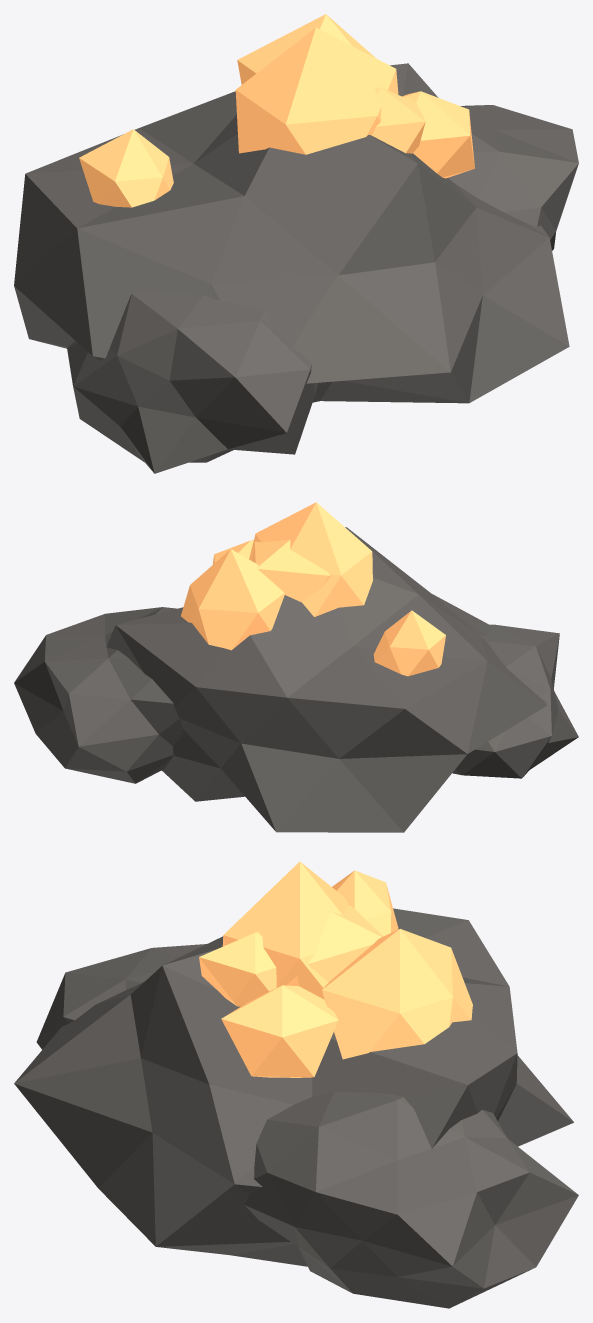
Rendered from ore-ferrite.glb.
3 renders of one model, top to bottom at view 1: azimuth 30°, elevation 25°; view 2: azimuth 150°, elevation 25°; view 3: azimuth 270°, elevation 25°, orthographic. The views are drawn at different scales.
Parts seen in each view (by area): view 1: ore-ferrite; view 2: ore-ferrite; view 3: ore-ferrite.
Part boxes in pixels (x1=…): ore-ferrite: x1=14, y1=14, x2=578, y2=473; ore-ferrite: x1=14, y1=502, x2=578, y2=832; ore-ferrite: x1=14, y1=861, x2=578, y2=1308.
Size of the model in its own units: 1.96 by 1.19 by 1.65.
